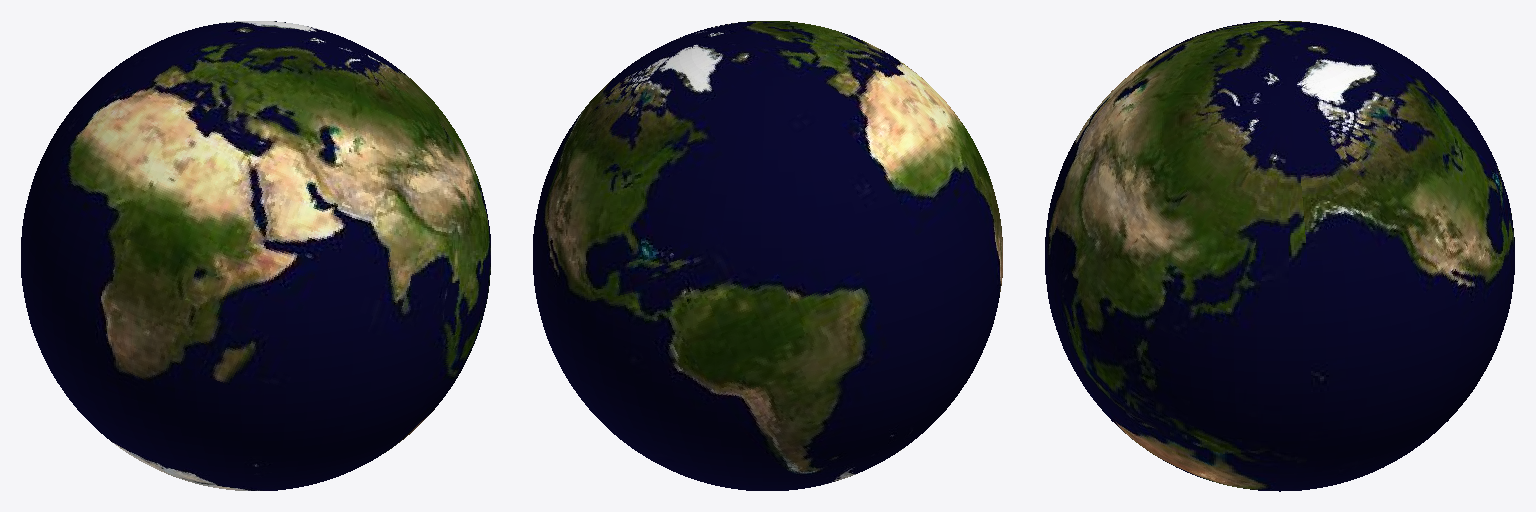
3 renders of one model, left to right at view 1: azimuth 30°, elevation 25°; view 2: azimuth 150°, elevation 25°; view 3: azimuth 270°, elevation 25°, orthographic.
Visible parts, largest first — view 1: Sphere; view 2: Sphere; view 3: Sphere.
Boxes of the visible parts, x1=… form: Sphere: x1=21, y1=21, x2=490, y2=490; Sphere: x1=533, y1=21, x2=1002, y2=490; Sphere: x1=1045, y1=20, x2=1514, y2=491.
Bounding box in the file's own units: 2 × 2 × 2.
Materials: 1 (1 with a texture image).